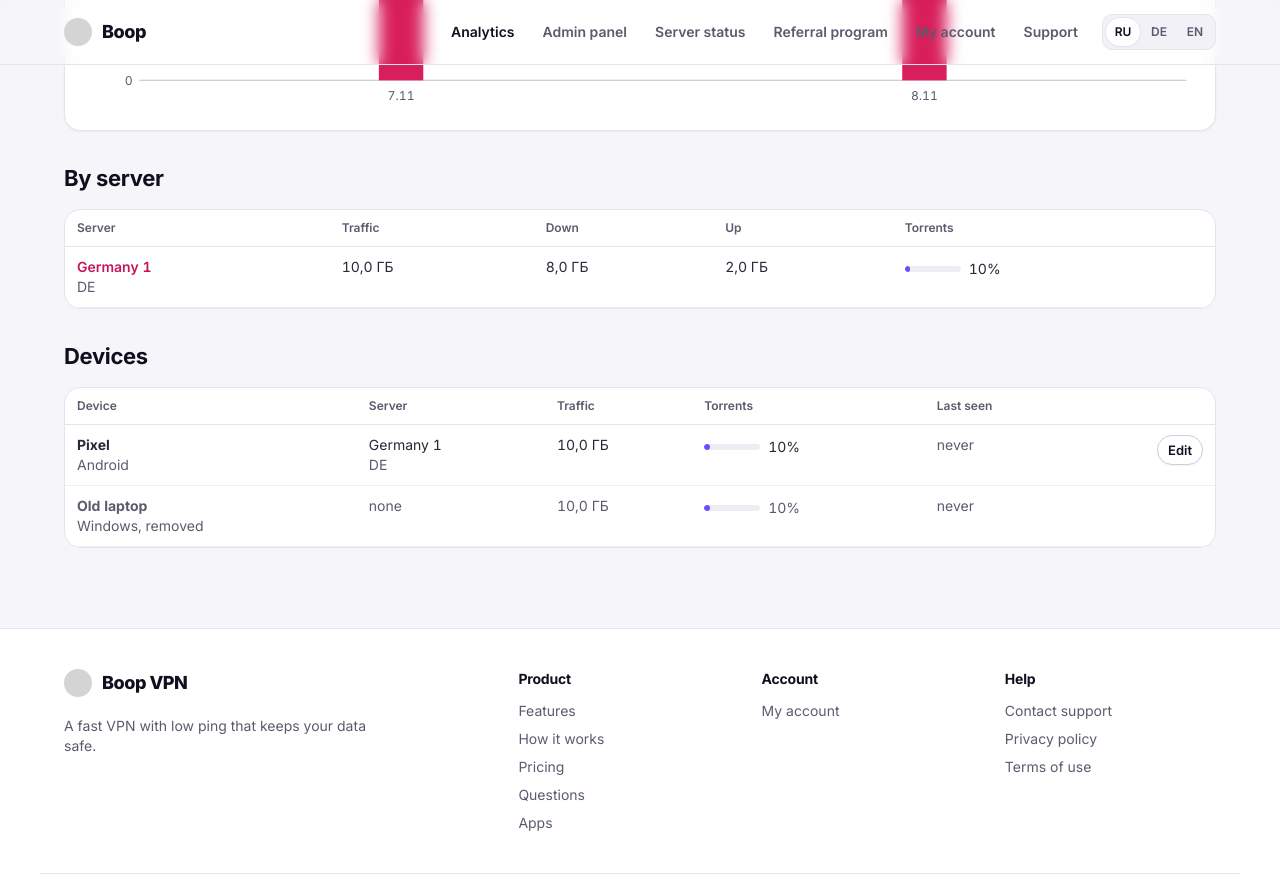
Test case: #/analytics › a person's page: servers and devices; a device is renamed and moved from the dialog
(page scrolled)
Expected: the text "Android" is shown, top-left (77, 456), bottom-right (129, 473)
Click the button "Edit".
click(1180, 450)  # box top-left (1157, 435), bottom-right (1203, 465)
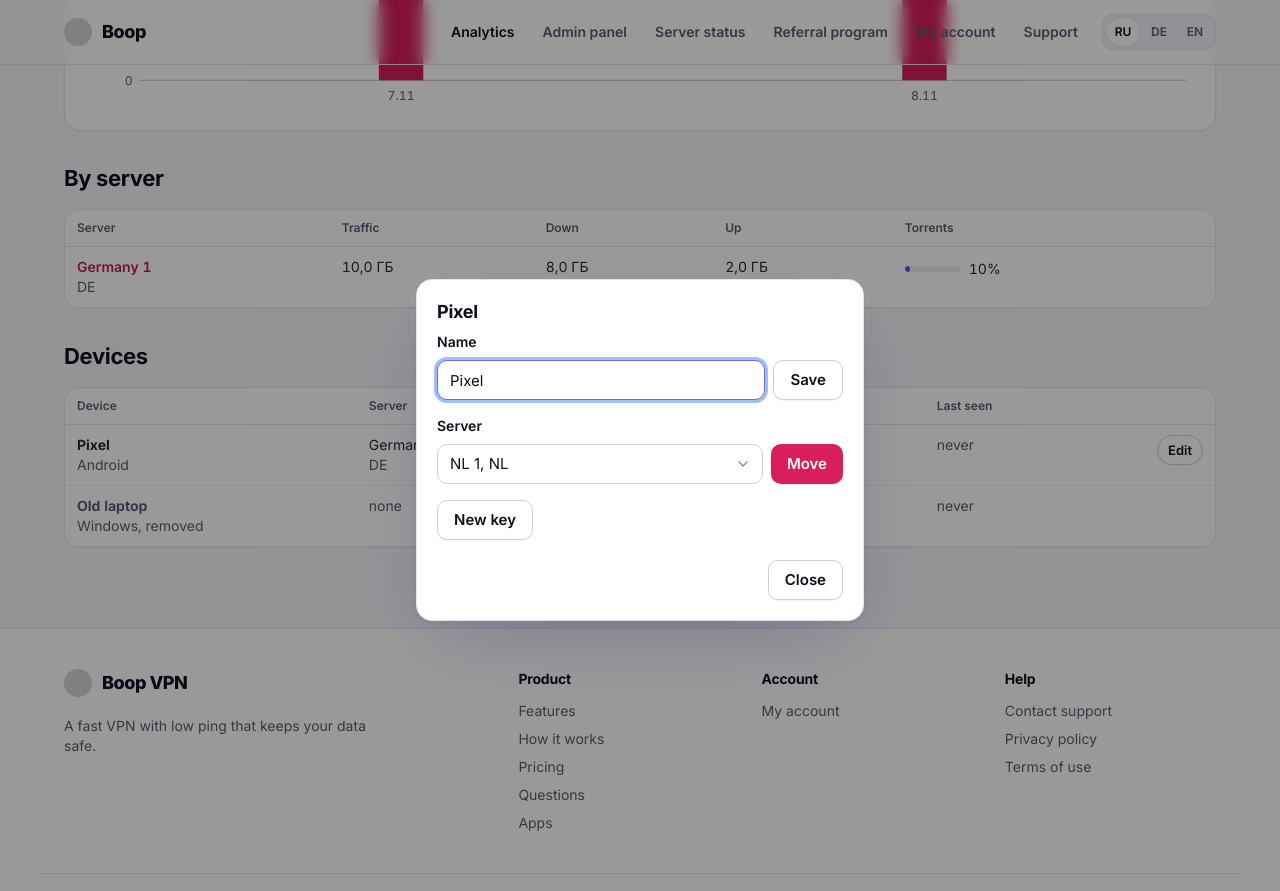
Replace the text in the field labelled "Name" with "Work phone" at coordinates (601, 380), box top-left (437, 360), bottom-right (766, 400)
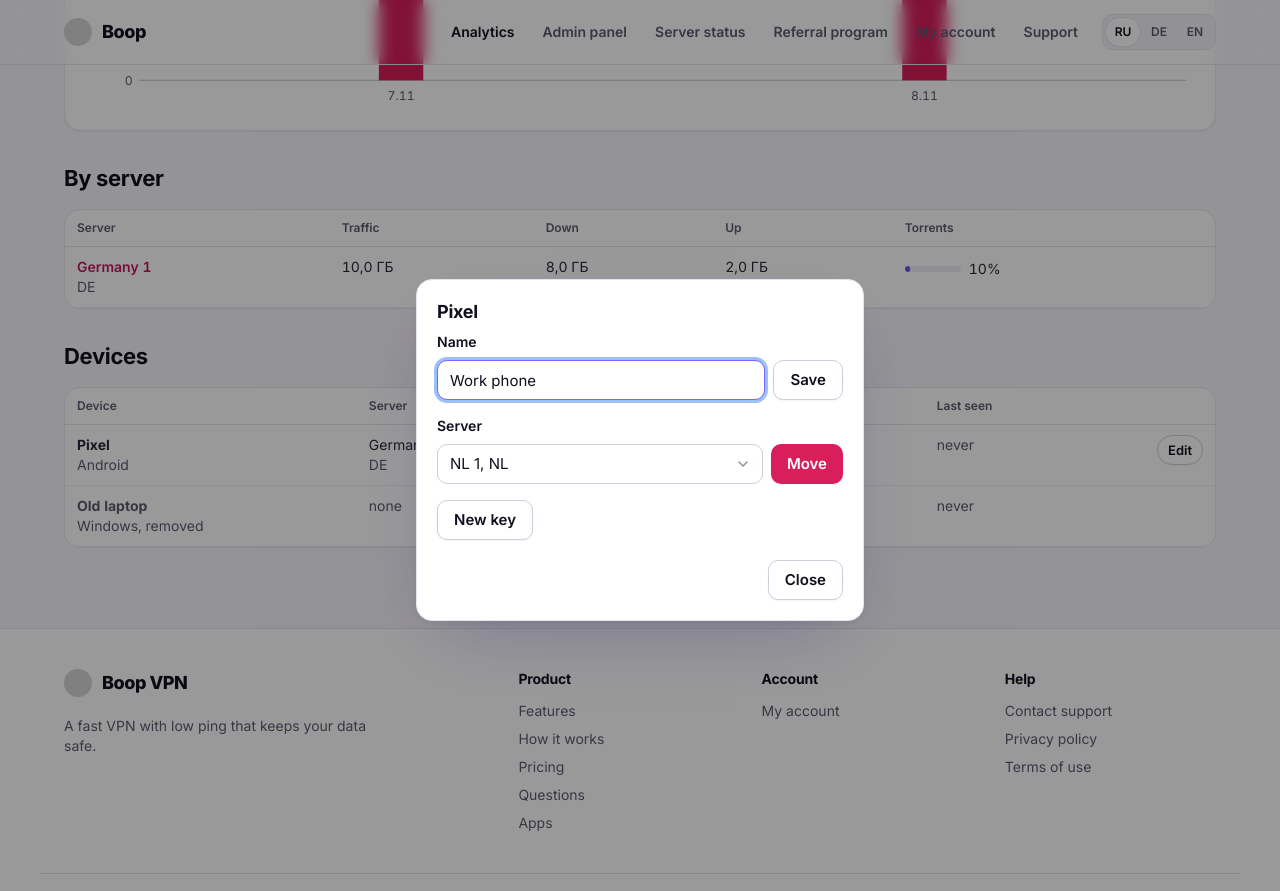
Click the button "Save".
click(808, 380)  # box top-left (774, 360), bottom-right (843, 400)
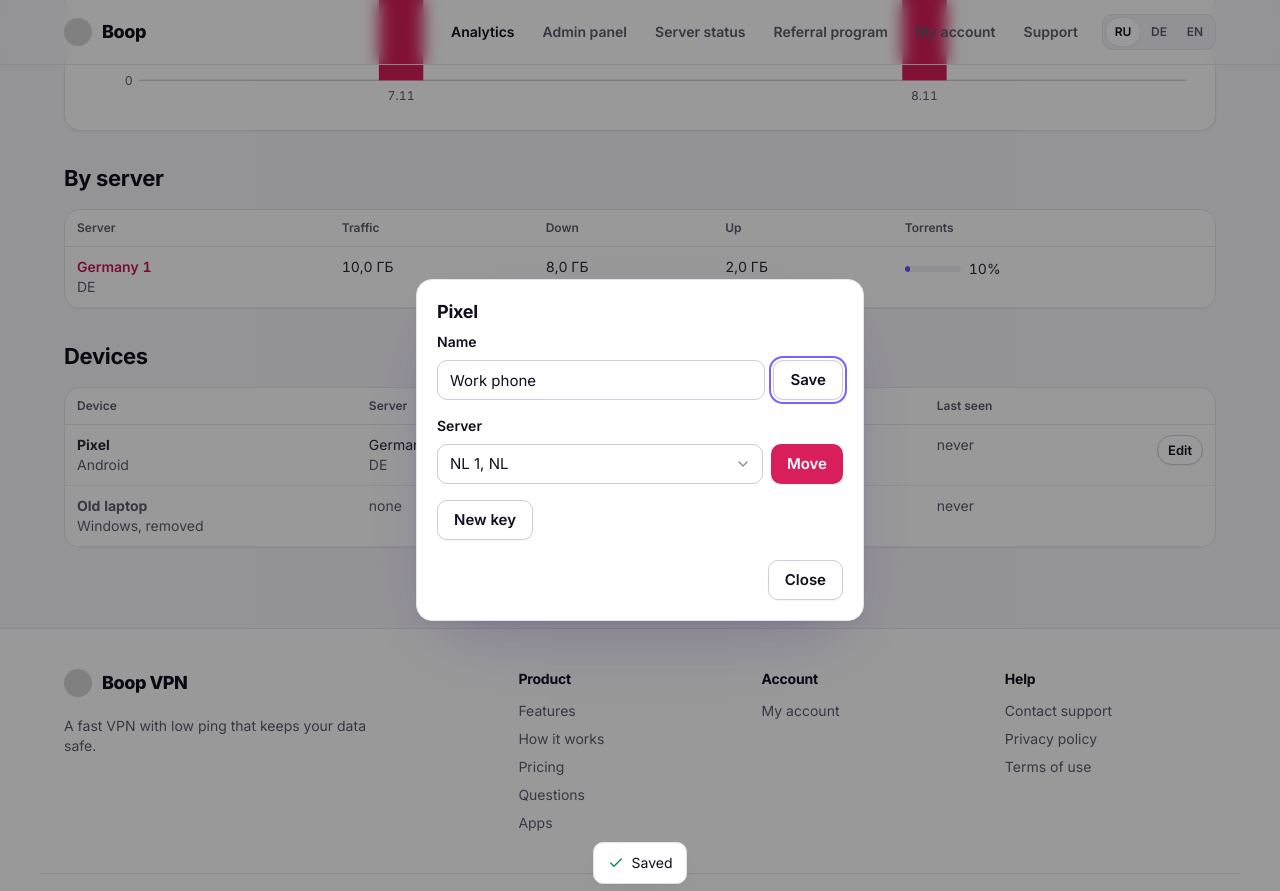
Expected: the dropdown labelled "Server" does not show "Germany 1", top-left (437, 444), bottom-right (763, 484)
Click the button "Move".
click(807, 464)  # box top-left (771, 444), bottom-right (843, 484)
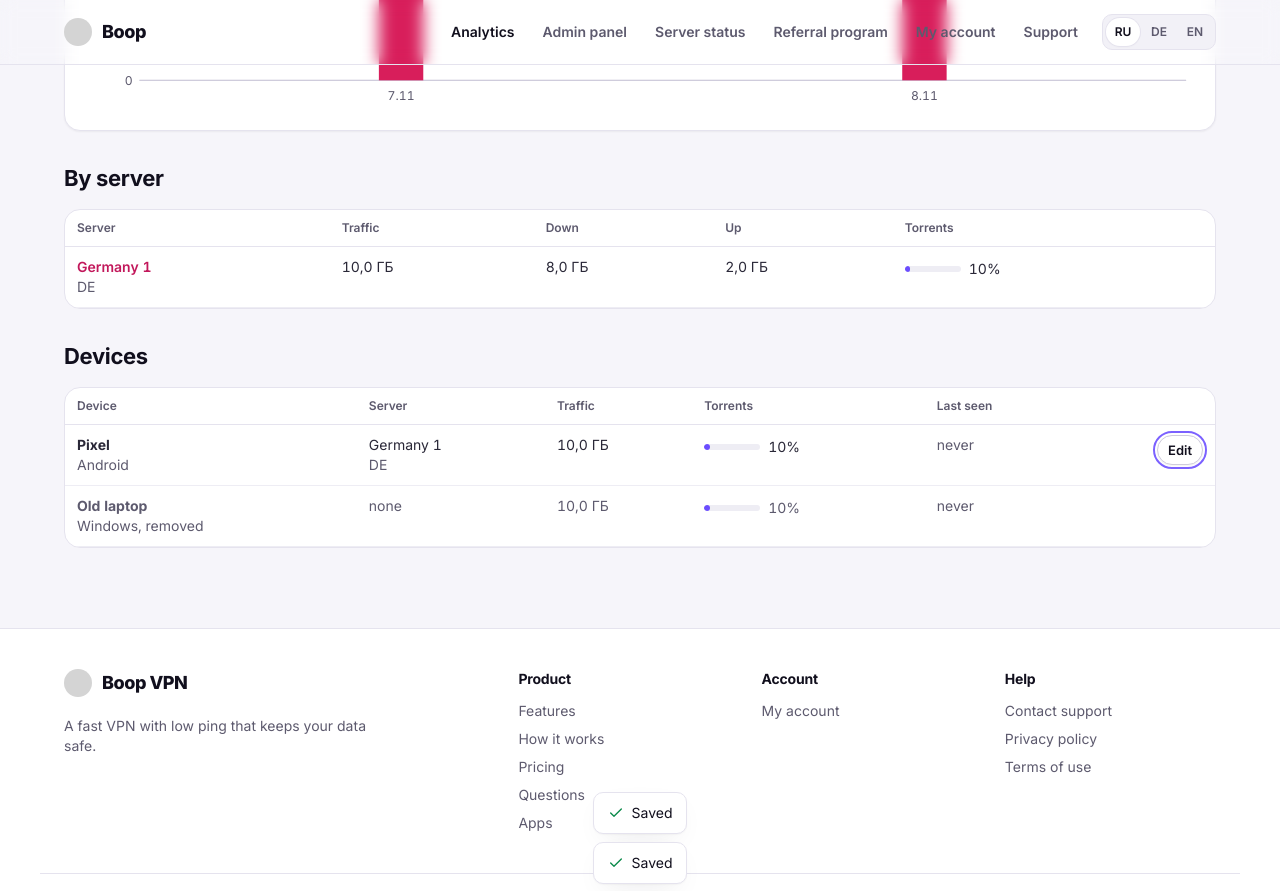
Expected: the dialog is gone
